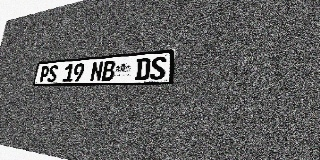plate: (33, 49, 175, 86)
